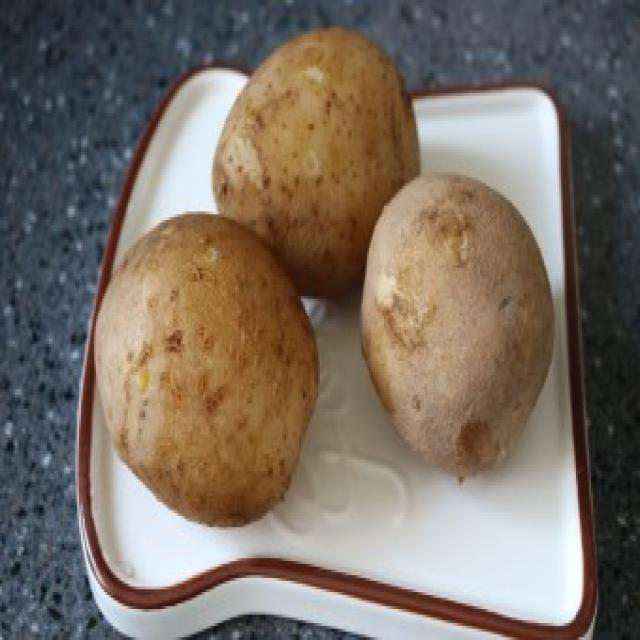potato: (90, 214, 320, 536), (358, 163, 558, 484), (209, 21, 425, 299)
